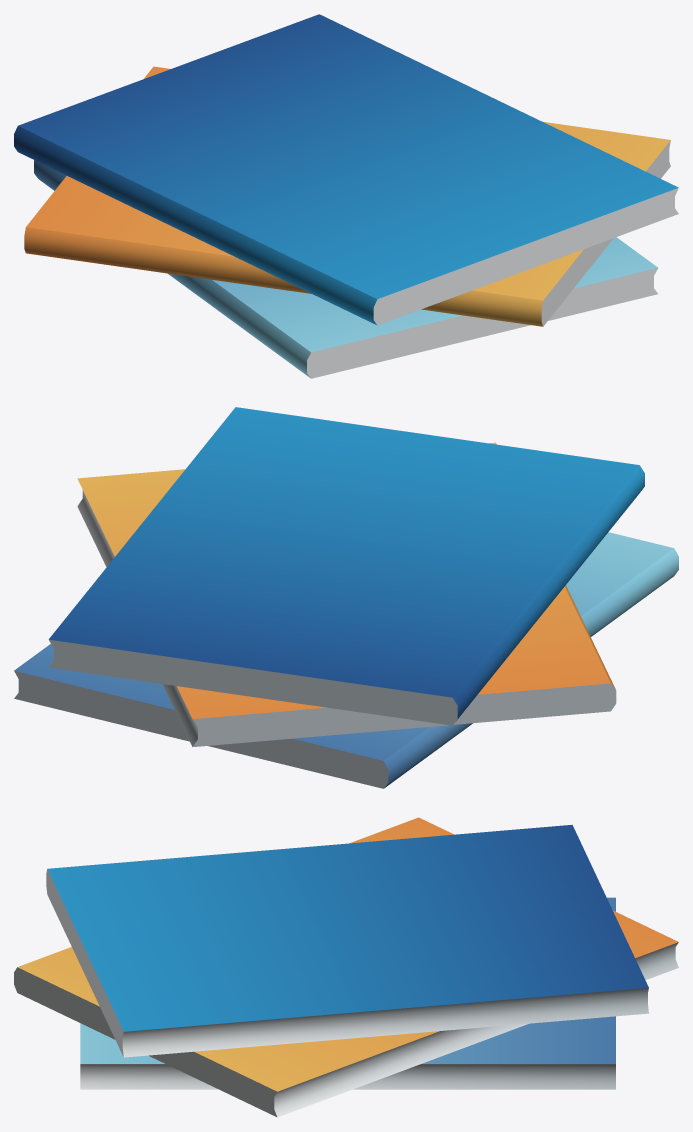
The model's file is comicbooks_stacked.fbx.
3 renders of one model, top to bottom at view 1: azimuth 30°, elevation 25°; view 2: azimuth 150°, elevation 25°; view 3: azimuth 270°, elevation 25°, orthographic. The views are drawn at different scales.
Parts seen in each view (by area): view 1: comicbooks_stacked; view 2: comicbooks_stacked; view 3: comicbooks_stacked.
Part boxes in pixels (x1,y1,x2,y2): comicbooks_stacked: (14,14,678,378); comicbooks_stacked: (14,407,678,788); comicbooks_stacked: (14,817,678,1117).
Bounding box in the file's own units: 0.8406 × 0.1113 × 0.8561.
